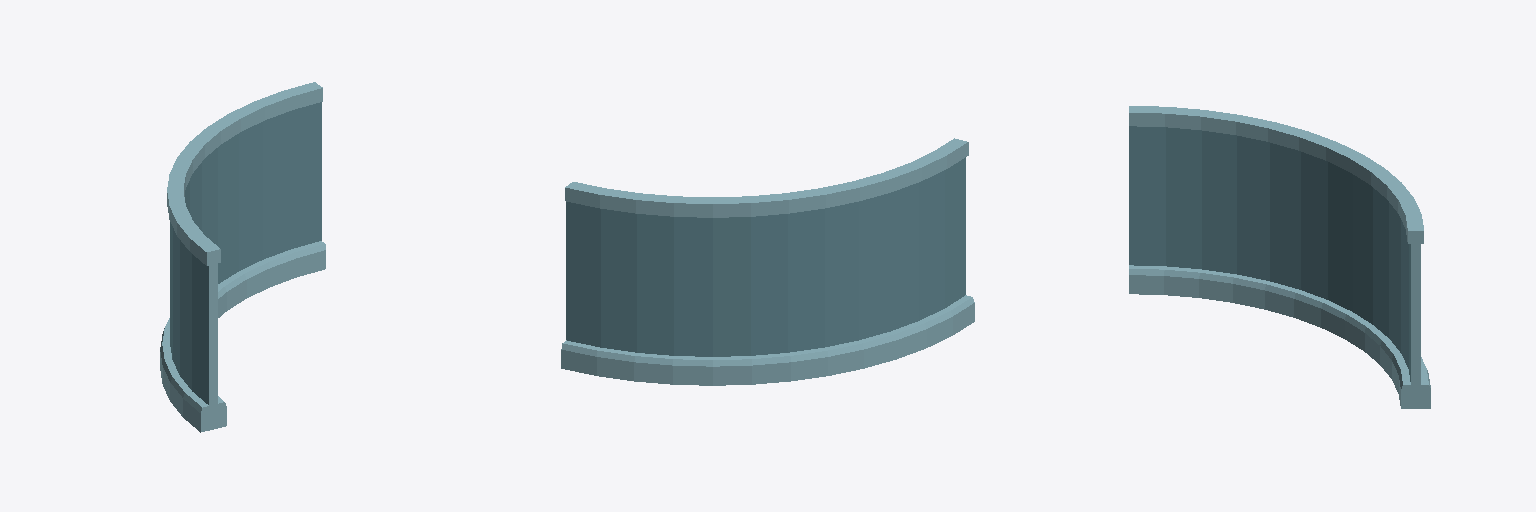
File: stoneWallCurve.obj
3 renders of one model, left to right at view 1: azimuth 30°, elevation 25°; view 2: azimuth 150°, elevation 25°; view 3: azimuth 270°, elevation 25°, orthographic.
Parts seen in each view (by area): view 1: stoneWallCurve; view 2: stoneWallCurve; view 3: stoneWallCurve.
Part boxes in pixels (x1,y1,x2,y2): stoneWallCurve: (160, 82, 325, 432); stoneWallCurve: (561, 138, 974, 385); stoneWallCurve: (1129, 106, 1430, 408).
Bounding box in the file's own units: 1 × 0.6519 × 1.